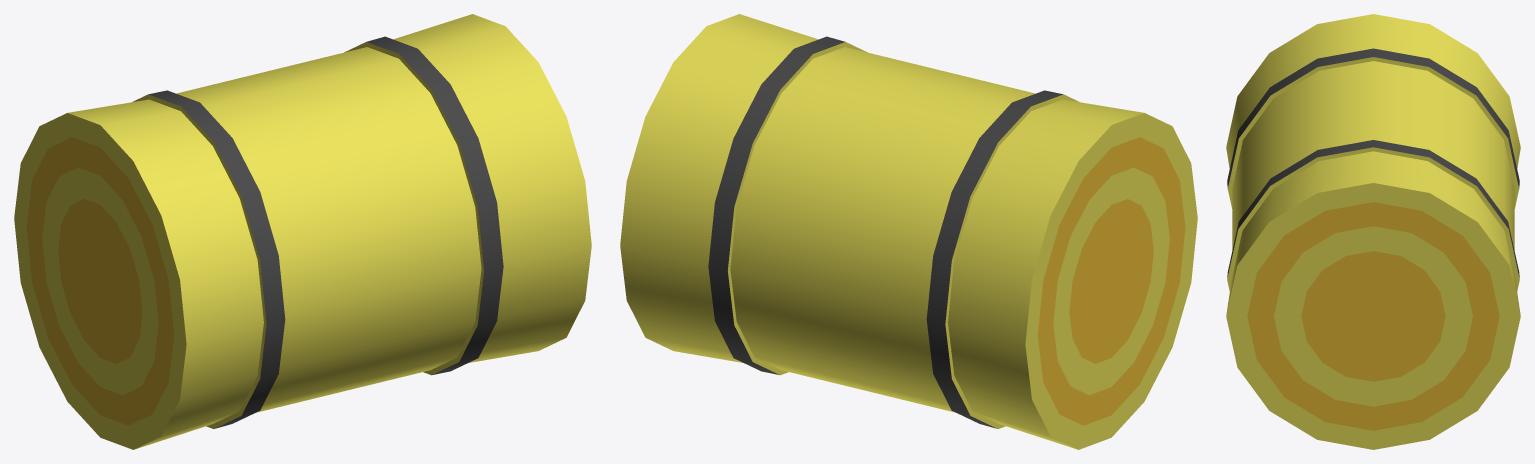
File: haybale_laying.fbx
3 views of the same model, side by side, from view 1: azimuth 30°, elevation 25°; view 2: azimuth 150°, elevation 25°; view 3: azimuth 270°, elevation 25° (orthographic). The views are drawn at different scales.
Visible parts, largest first — view 1: haybale_laying; view 2: haybale_laying; view 3: haybale_laying.
Boxes of the visible parts, left/top/right/bottom form: haybale_laying: left=14, top=14, right=591, bottom=449; haybale_laying: left=620, top=14, right=1197, bottom=449; haybale_laying: left=1226, top=14, right=1520, bottom=449.
Bounding box in the file's own units: 271 × 200 × 200.
